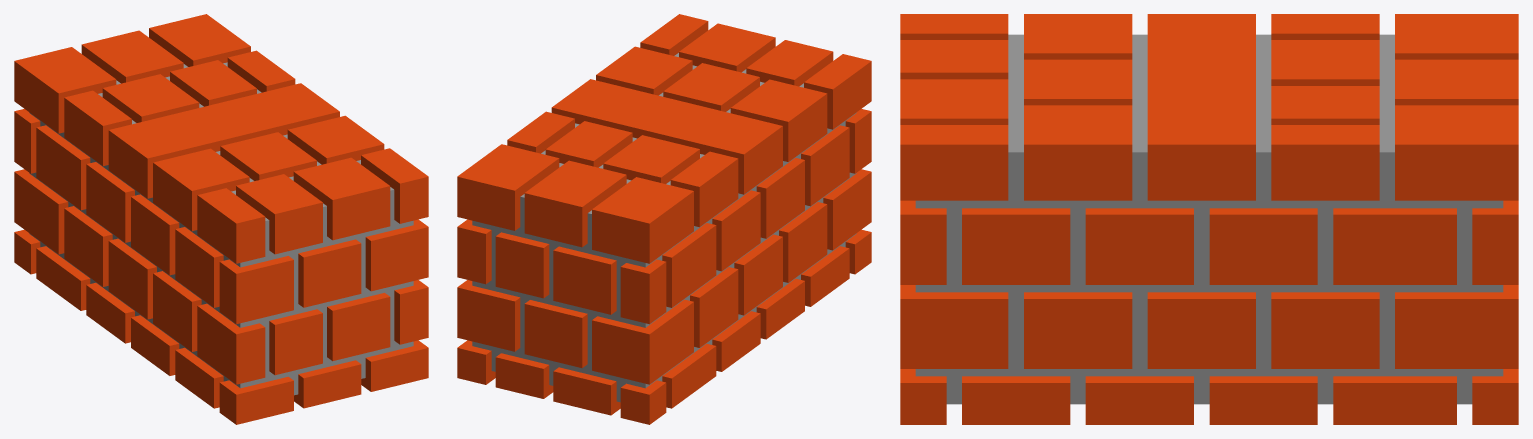
File: bricks.obj
The picture shows the model from 3 angles, left to right: view 1: azimuth 30°, elevation 25°; view 2: azimuth 150°, elevation 25°; view 3: azimuth 270°, elevation 25°; orthographic projection. The views are drawn at different scales.
Bounding box in the file's own units: 2 × 2 × 4.
1 material, 1 textured.
